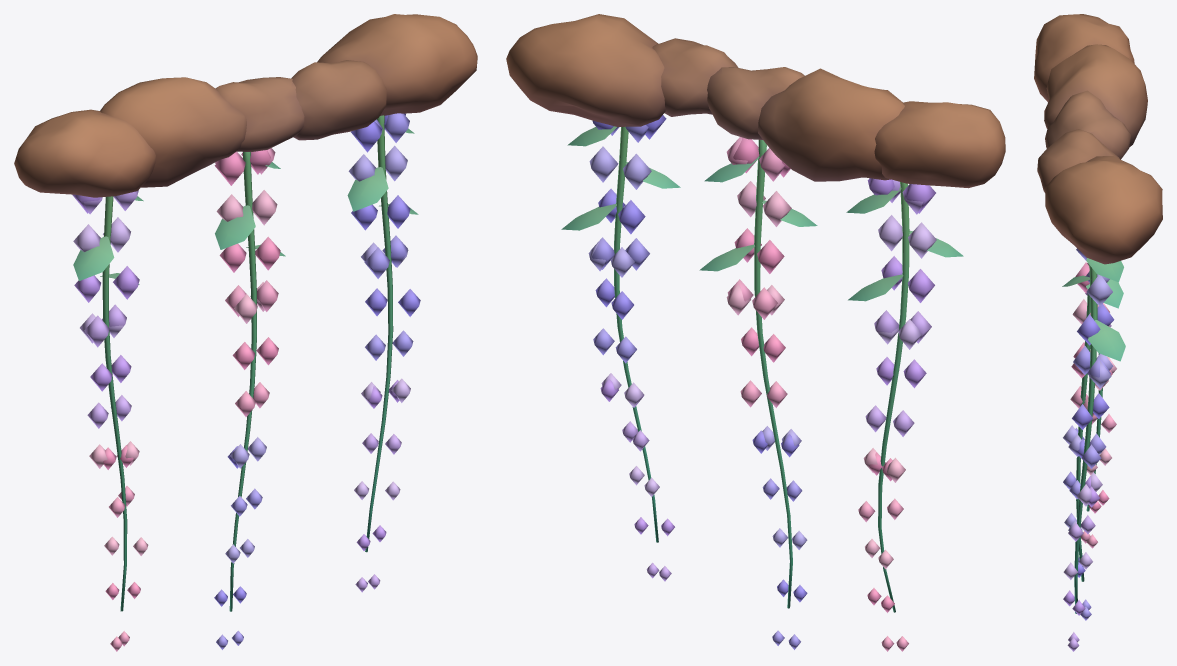
The model's file is verdant_hang_vines_wisteria.glb.
The picture shows the model from 3 angles, left to right: view 1: azimuth 30°, elevation 25°; view 2: azimuth 150°, elevation 25°; view 3: azimuth 270°, elevation 25°; orthographic projection. The views are drawn at different scales.
Visible parts, largest first — view 1: verdant_hang_vines_wisteria; view 2: verdant_hang_vines_wisteria; view 3: verdant_hang_vines_wisteria.
Boxes of the visible parts, bbox=[...] form: verdant_hang_vines_wisteria: bbox=[14, 14, 477, 651]; verdant_hang_vines_wisteria: bbox=[506, 14, 1005, 651]; verdant_hang_vines_wisteria: bbox=[1034, 14, 1162, 651].
Size of the model in its own units: 2.07 by 2.46 by 0.537.
